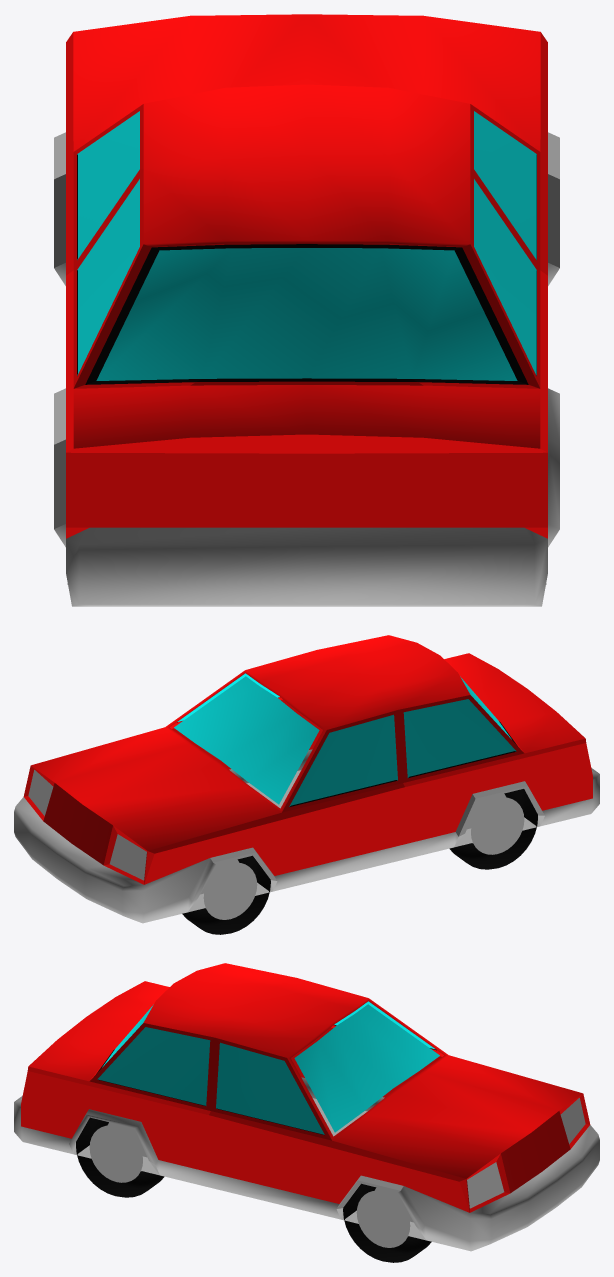
Rendered from RightTurn_Car.obj.
3 renders of one model, top to bottom at view 1: azimuth 30°, elevation 25°; view 2: azimuth 150°, elevation 25°; view 3: azimuth 270°, elevation 25°, orthographic. The views are drawn at different scales.
Parts seen in each view (by area): view 1: Car_Cube; view 2: Car_Cube; view 3: Car_Cube.
Boxes of the visible parts, left/top/right/bottom form: Car_Cube: left=54, top=14, right=559, bottom=606; Car_Cube: left=14, top=635, right=599, bottom=934; Car_Cube: left=14, top=963, right=599, bottom=1262.
Bounding box in the file's own units: 3.88 × 1.59 × 4.86.
